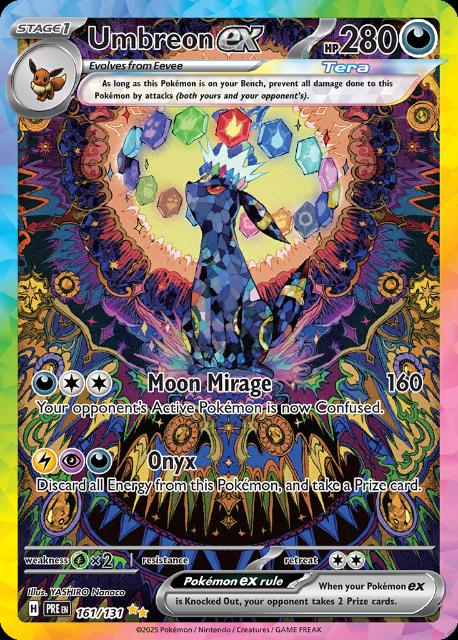Card: (0, 0, 458, 640)
Name: (84, 23, 274, 57)
